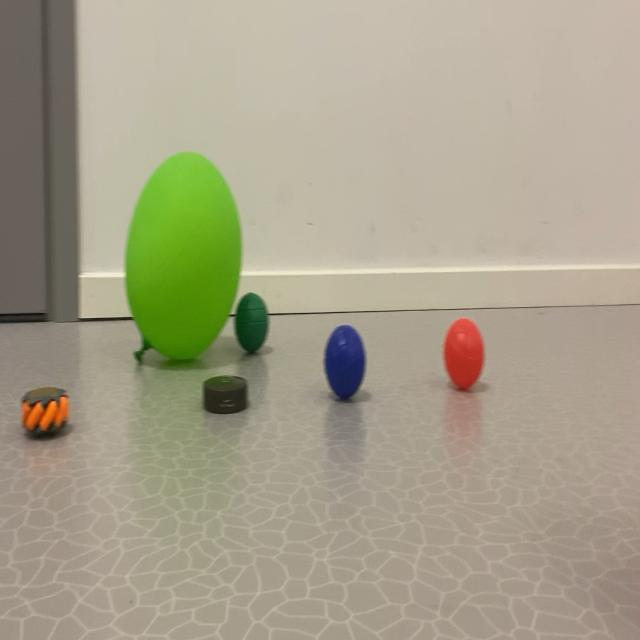7: (428, 288, 496, 479)
green ball: (310, 291, 376, 471)
red ball: (231, 275, 288, 373)
